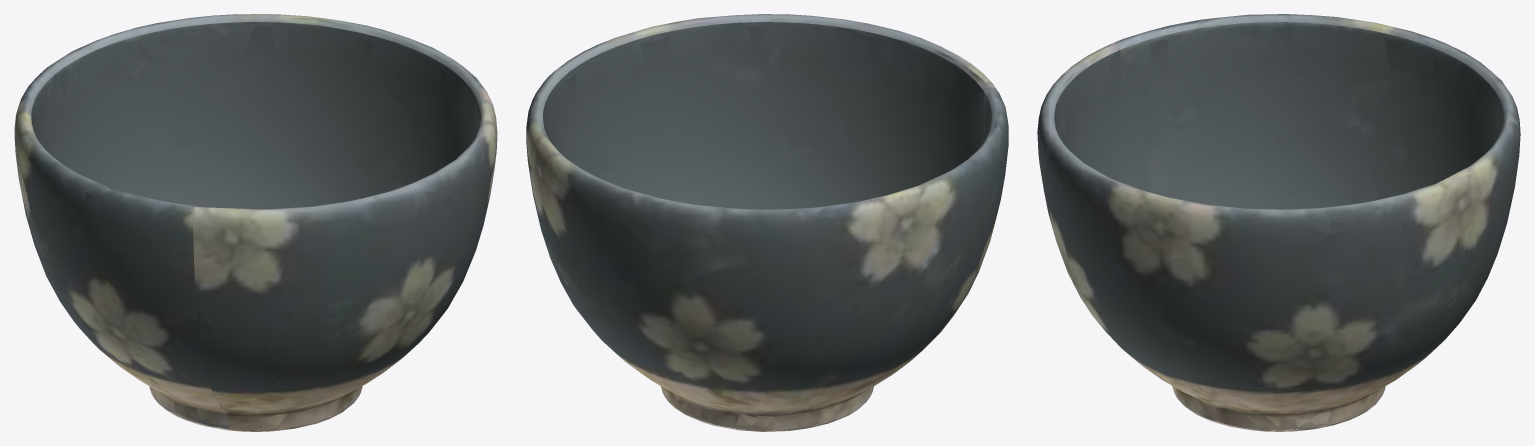
The model's file is flower-cup.glb.
3 renders of one model, left to right at view 1: azimuth 30°, elevation 25°; view 2: azimuth 150°, elevation 25°; view 3: azimuth 270°, elevation 25°, orthographic.
Visible parts, largest first — view 1: teacup_Material #25_0; view 2: teacup_Material #25_0; view 3: teacup_Material #25_0.
Part boxes in pixels (bbox=[...]): teacup_Material #25_0: bbox=[14, 14, 497, 431]; teacup_Material #25_0: bbox=[526, 14, 1008, 431]; teacup_Material #25_0: bbox=[1037, 14, 1520, 431].
Size of the model in its own units: 0.1142 by 0.0721 by 0.1142.
1 material, 1 textured.
